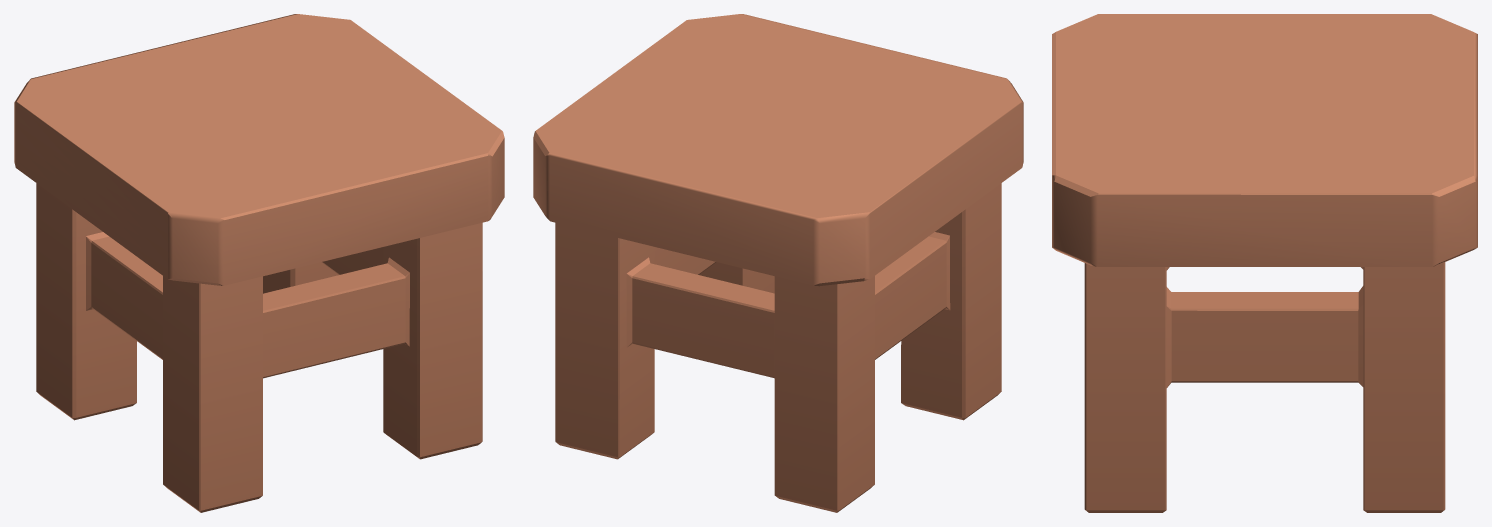
The model's file is kenney-fantasy-town__stall-stool.glb.
3 renders of one model, left to right at view 1: azimuth 30°, elevation 25°; view 2: azimuth 150°, elevation 25°; view 3: azimuth 270°, elevation 25°, orthographic. The views are drawn at different scales.
Visible parts, largest first — view 1: stall-stool; view 2: stall-stool; view 3: stall-stool.
Boxes of the visible parts, x1,y1,x2,y2 form: stall-stool: (14,14,504,512); stall-stool: (533,14,1023,512); stall-stool: (1052,14,1477,512).
Size of the model in its own units: 0.26 by 0.2255 by 0.26.
1 material, 1 textured.
